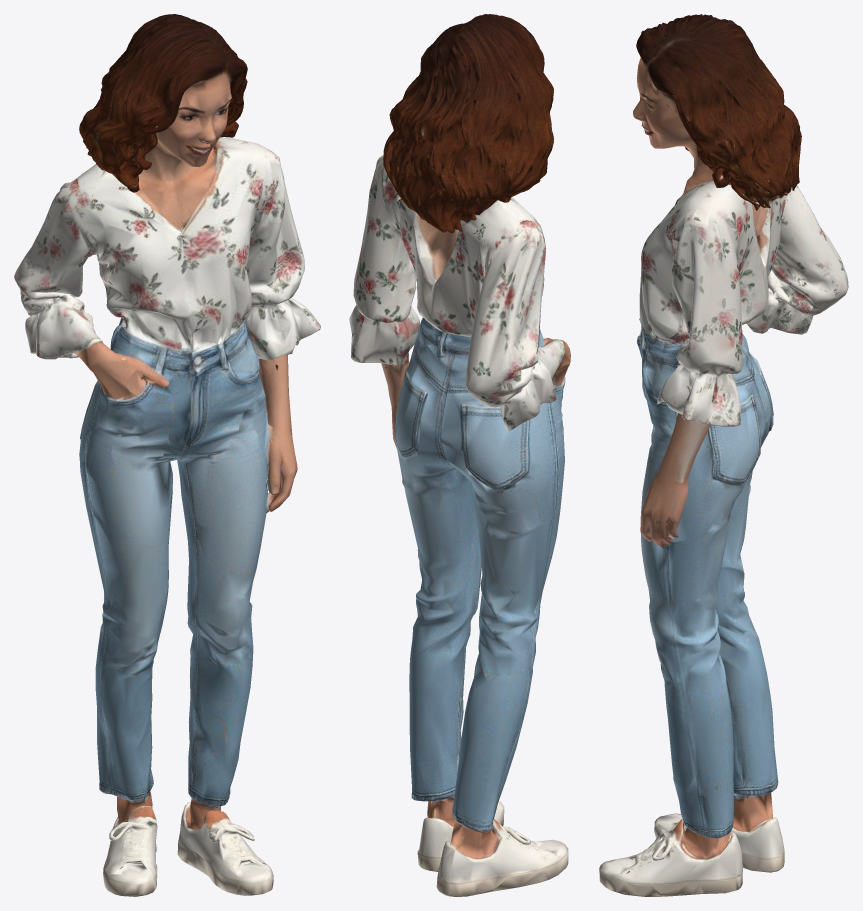
The model's file is mother.glb.
The picture shows the model from 3 angles, left to right: view 1: azimuth 30°, elevation 25°; view 2: azimuth 150°, elevation 25°; view 3: azimuth 270°, elevation 25°; orthographic projection.
Bounding box in the file's own units: 0.5743 × 1.9 × 0.5037.
1 material, 1 textured.
